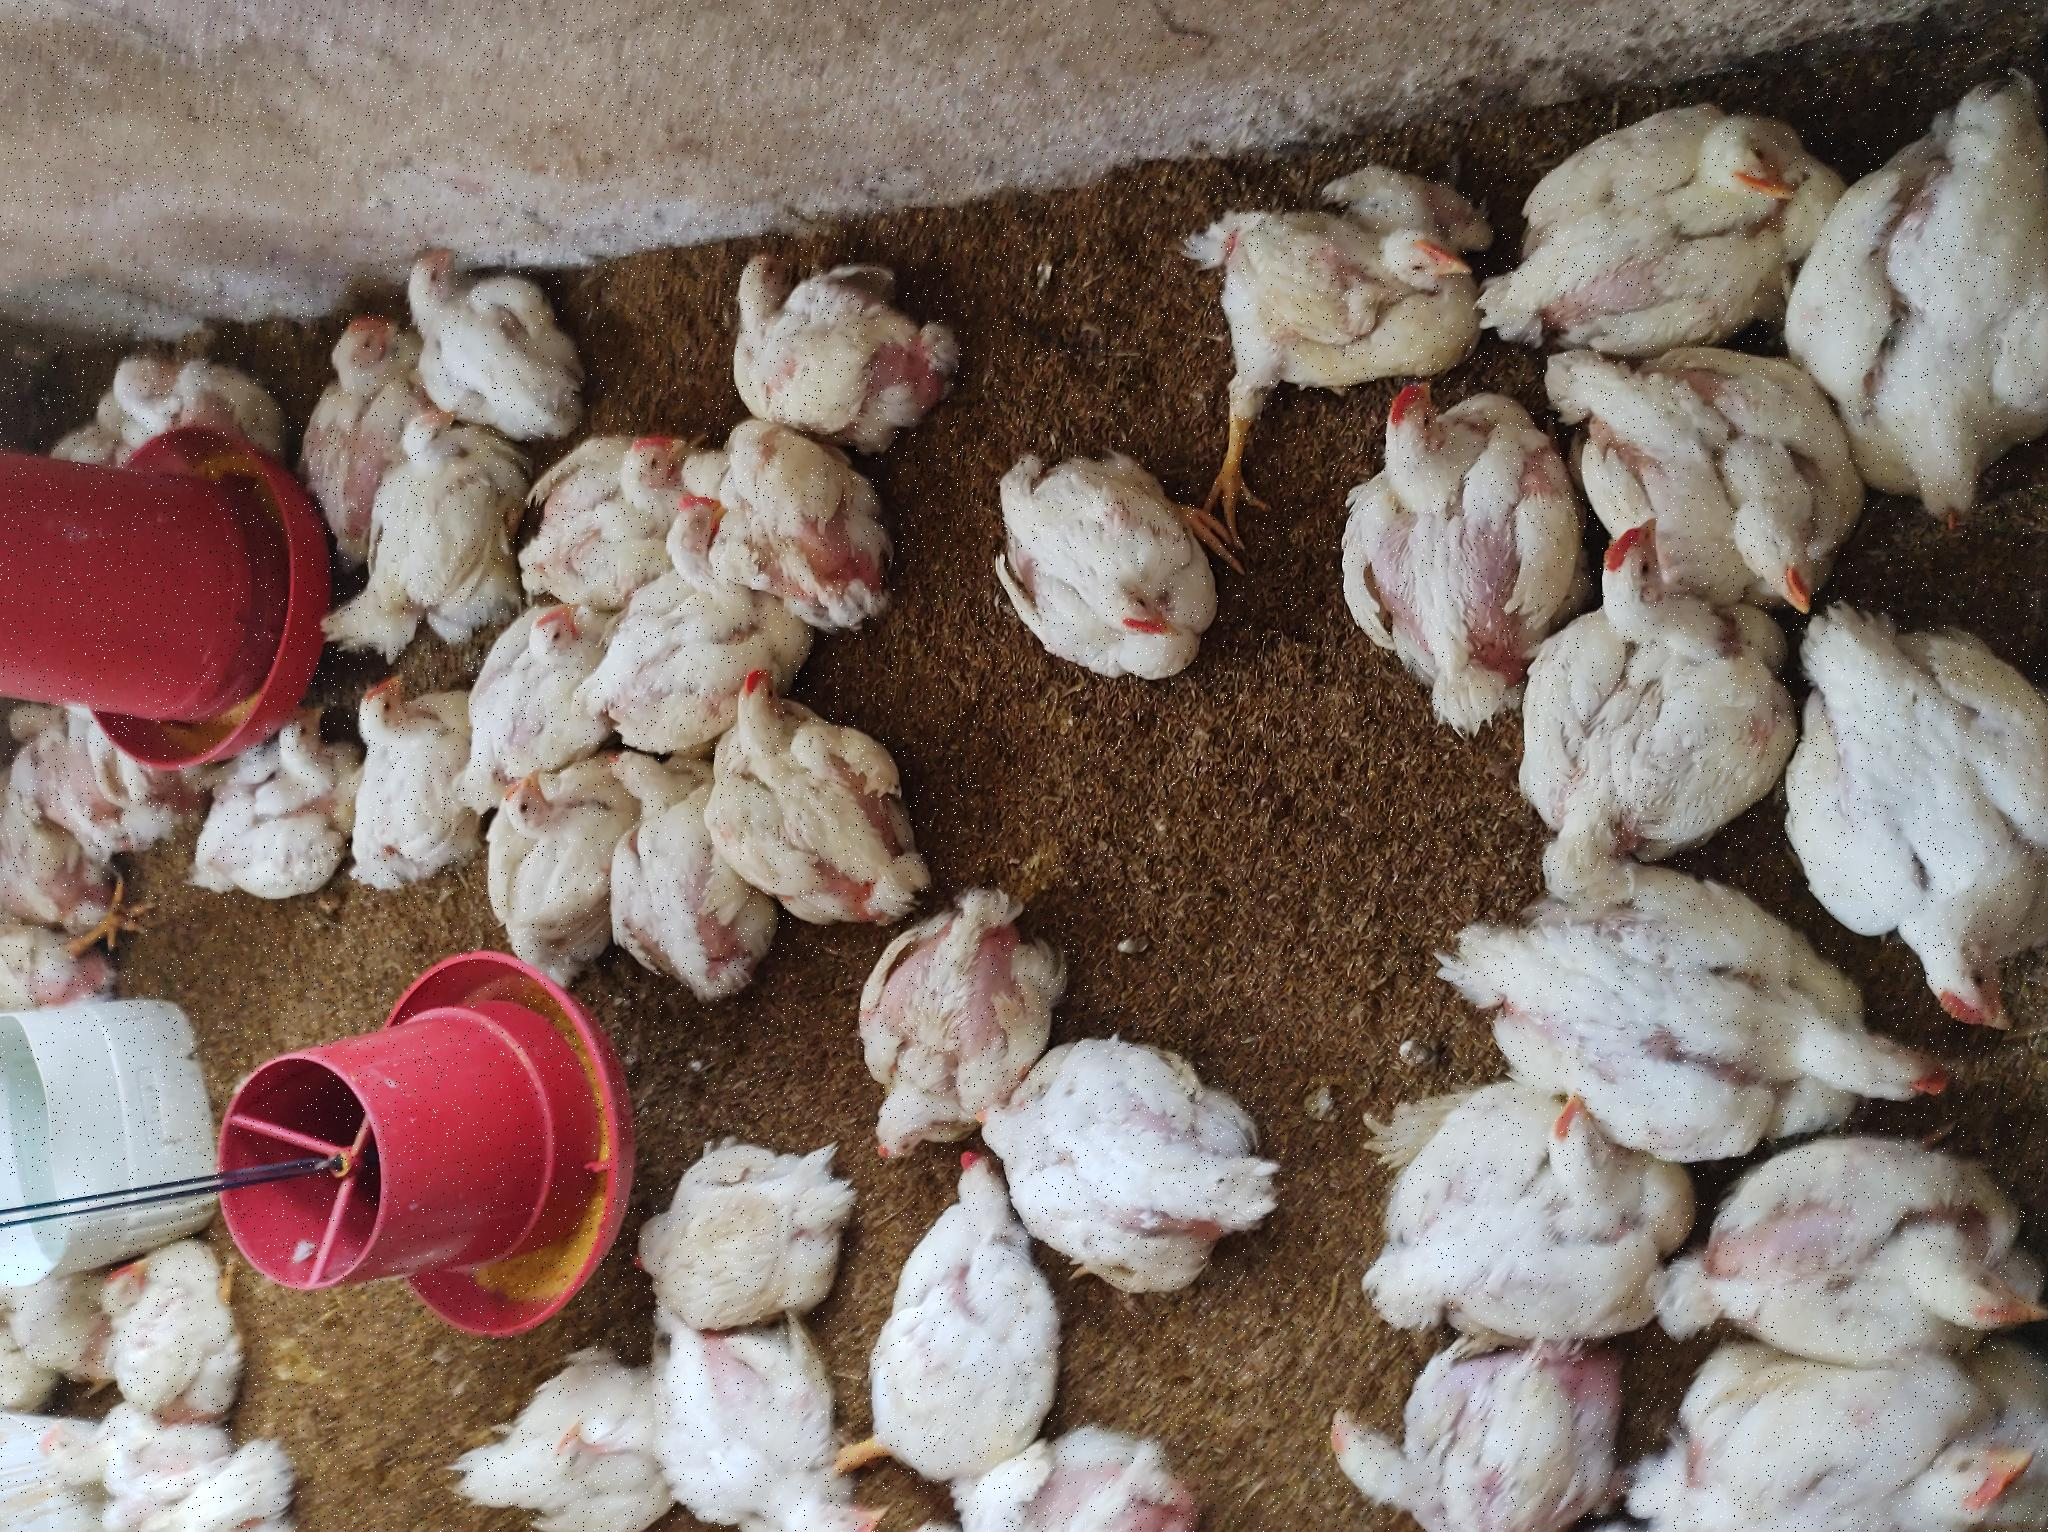Pollos: (1137, 1204, 1376, 1490), (47, 863, 378, 1052), (256, 996, 489, 1263), (619, 694, 866, 943), (867, 1336, 1150, 1532), (851, 998, 1088, 1229), (5, 649, 211, 895), (912, 682, 1136, 887), (1105, 727, 1289, 972), (378, 851, 631, 1027), (216, 620, 397, 856), (2, 1320, 183, 1532), (542, 597, 785, 743), (5, 447, 172, 653), (206, 1381, 430, 1532), (1120, 397, 1306, 571), (627, 188, 824, 343), (647, 343, 866, 481), (928, 517, 1113, 679), (2, 957, 117, 1217), (563, 473, 763, 616), (122, 92, 288, 262), (1018, 280, 1240, 407), (919, 381, 1117, 513), (1080, 85, 1219, 270), (764, 467, 936, 610), (2, 117, 95, 296), (594, 3, 711, 138), (507, 2, 600, 158), (55, 14, 132, 135), (956, 653, 1039, 729)
